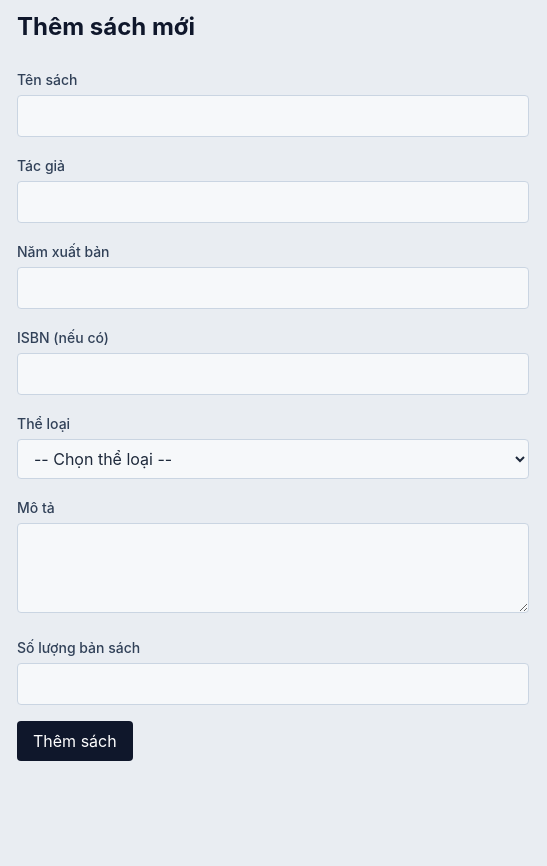
it: BookCreate › rejects bad Năm xuất bản
Expected: the field labelled "Tên sách" is shown, [17,95,529,137]
Step 1. Type "1899" into the number field labelled "Năm xuất bản" → (273, 288), box [17,267,529,309]
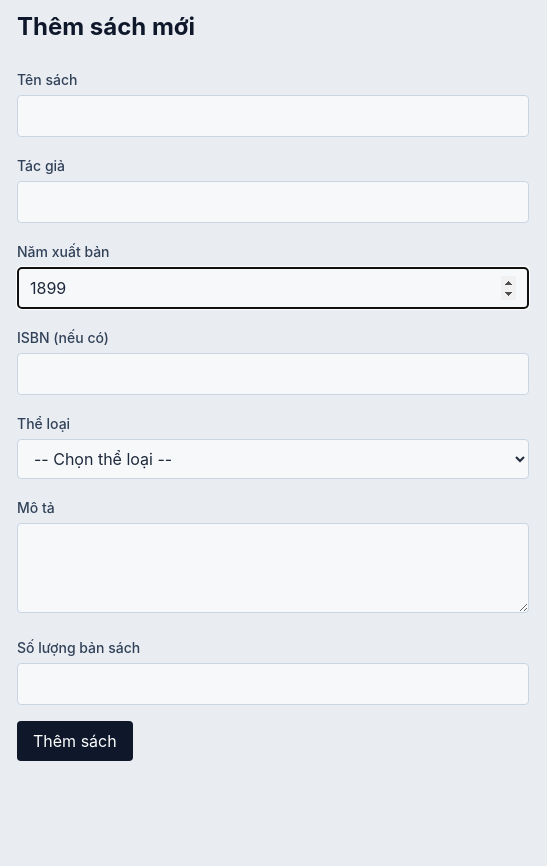
Step 2. Click the button "Thêm sách" → (75, 741), box [17,721,133,761]
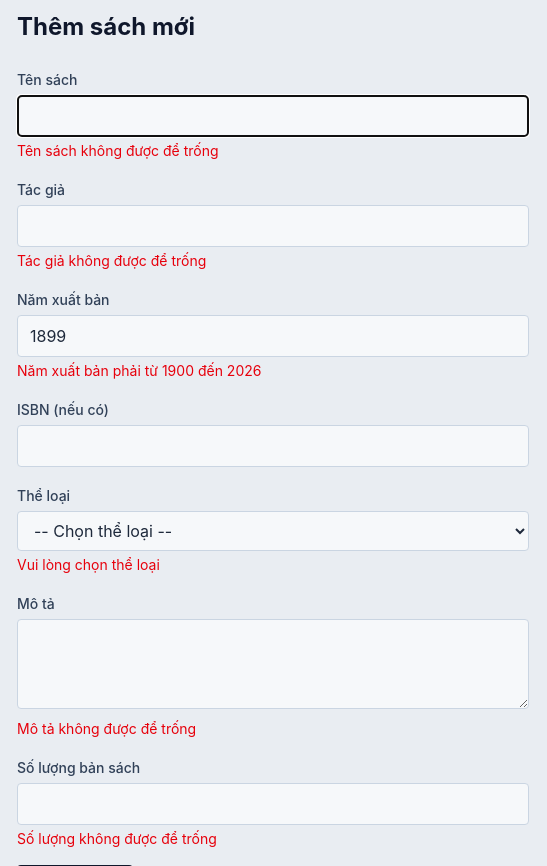
Expected: the text "Năm xuất bản phải từ 1900 đến 2026" is shown, [17,362,261,379]
